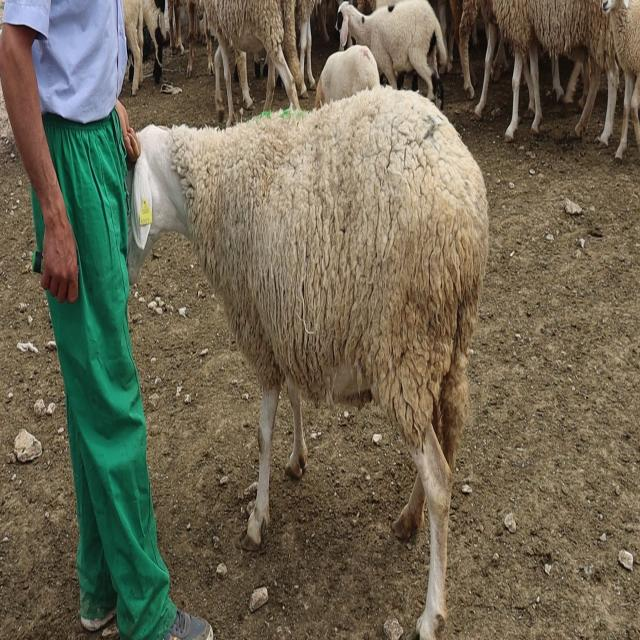Score_5: (135, 86, 488, 639)
